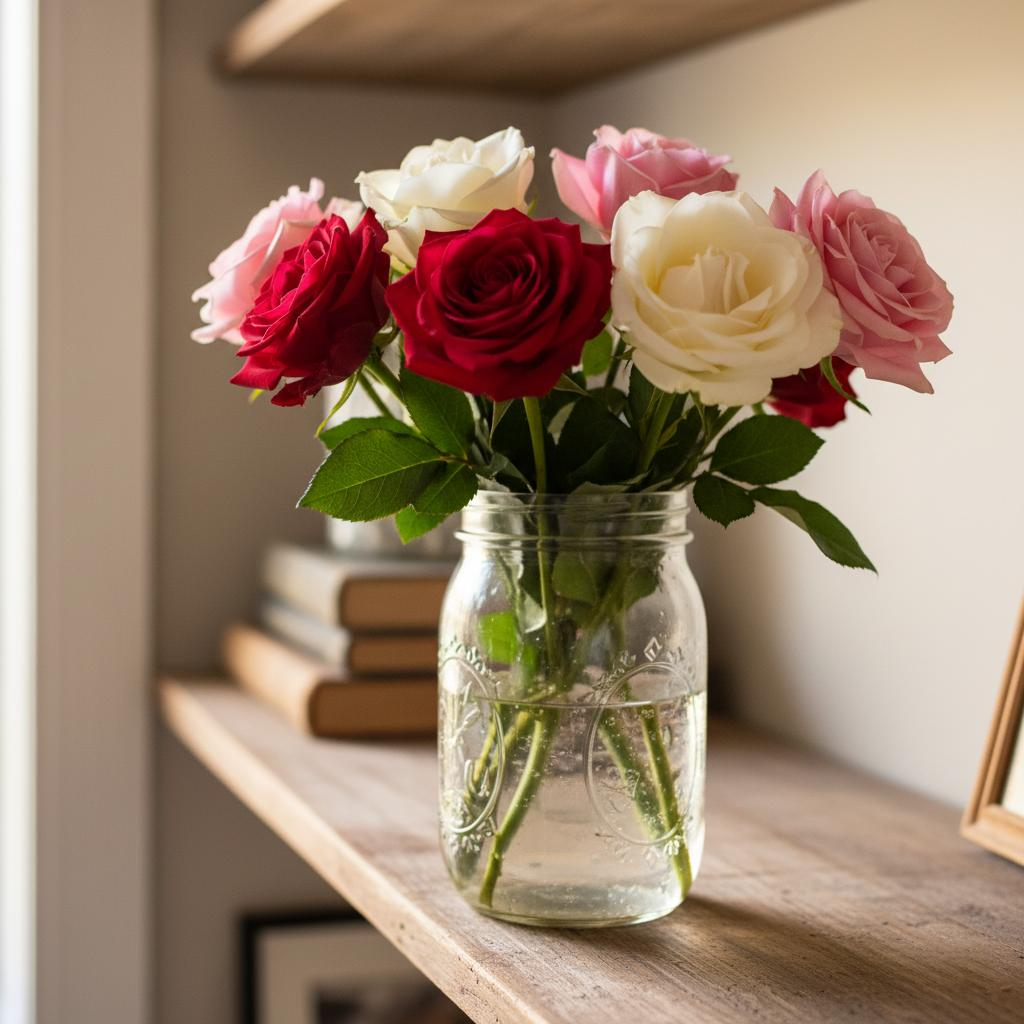rose: (189, 119, 956, 929)
